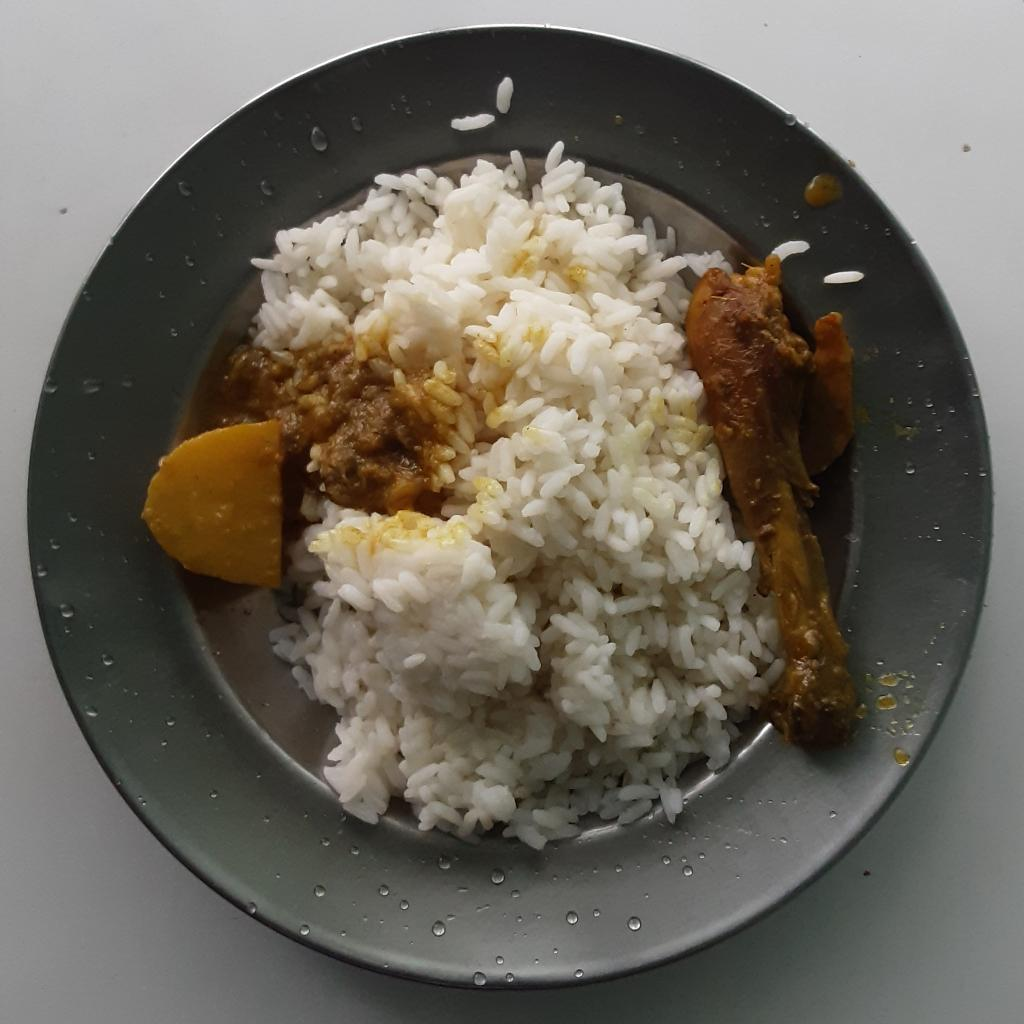chicken: (680, 256, 867, 750)
potato: (143, 417, 283, 590)
rice: (216, 136, 787, 847)
